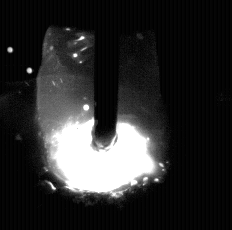arame: (94, 0, 118, 150)
poca: (40, 0, 165, 230)
